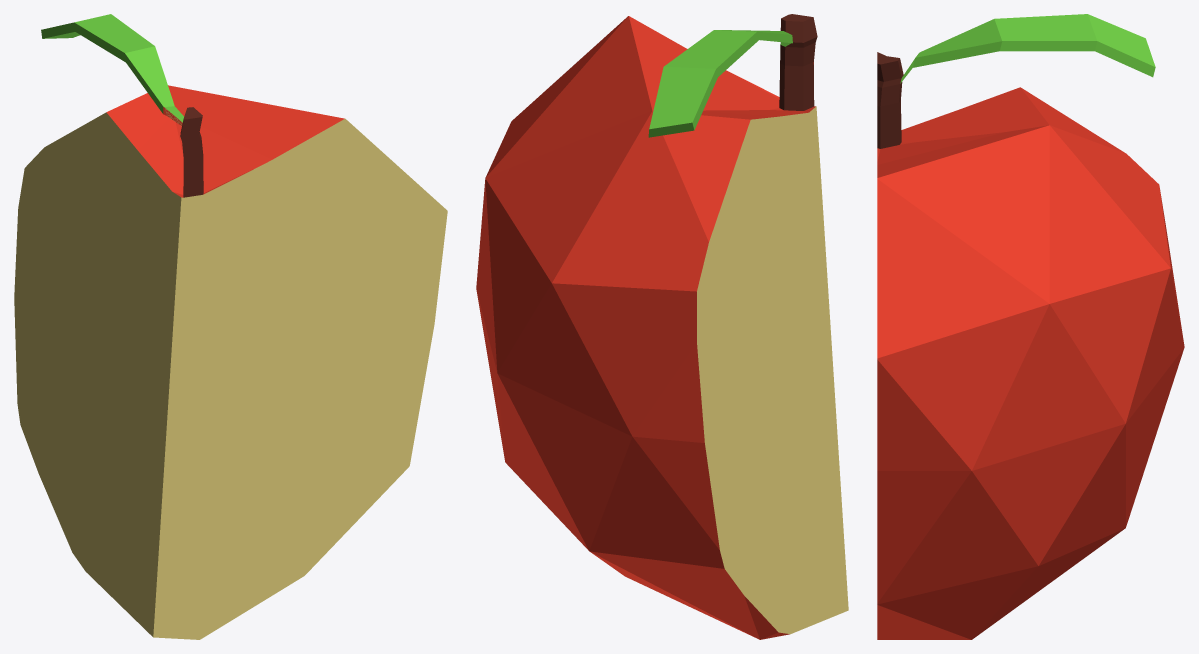
The model's file is AppleQu4.fbx.
3 renders of one model, left to right at view 1: azimuth 30°, elevation 25°; view 2: azimuth 150°, elevation 25°; view 3: azimuth 270°, elevation 25°, orthographic. The views are drawn at different scales.
Parts seen in each view (by area): view 1: AppleQu4; view 2: AppleQu4; view 3: AppleQu4.
Boxes of the visible parts, x1,y1,x2,y2 form: AppleQu4: (14,14,447,639); AppleQu4: (476,14,848,639); AppleQu4: (877,14,1184,639).
Size of the model in its own units: 124 by 214 by 99.79.
